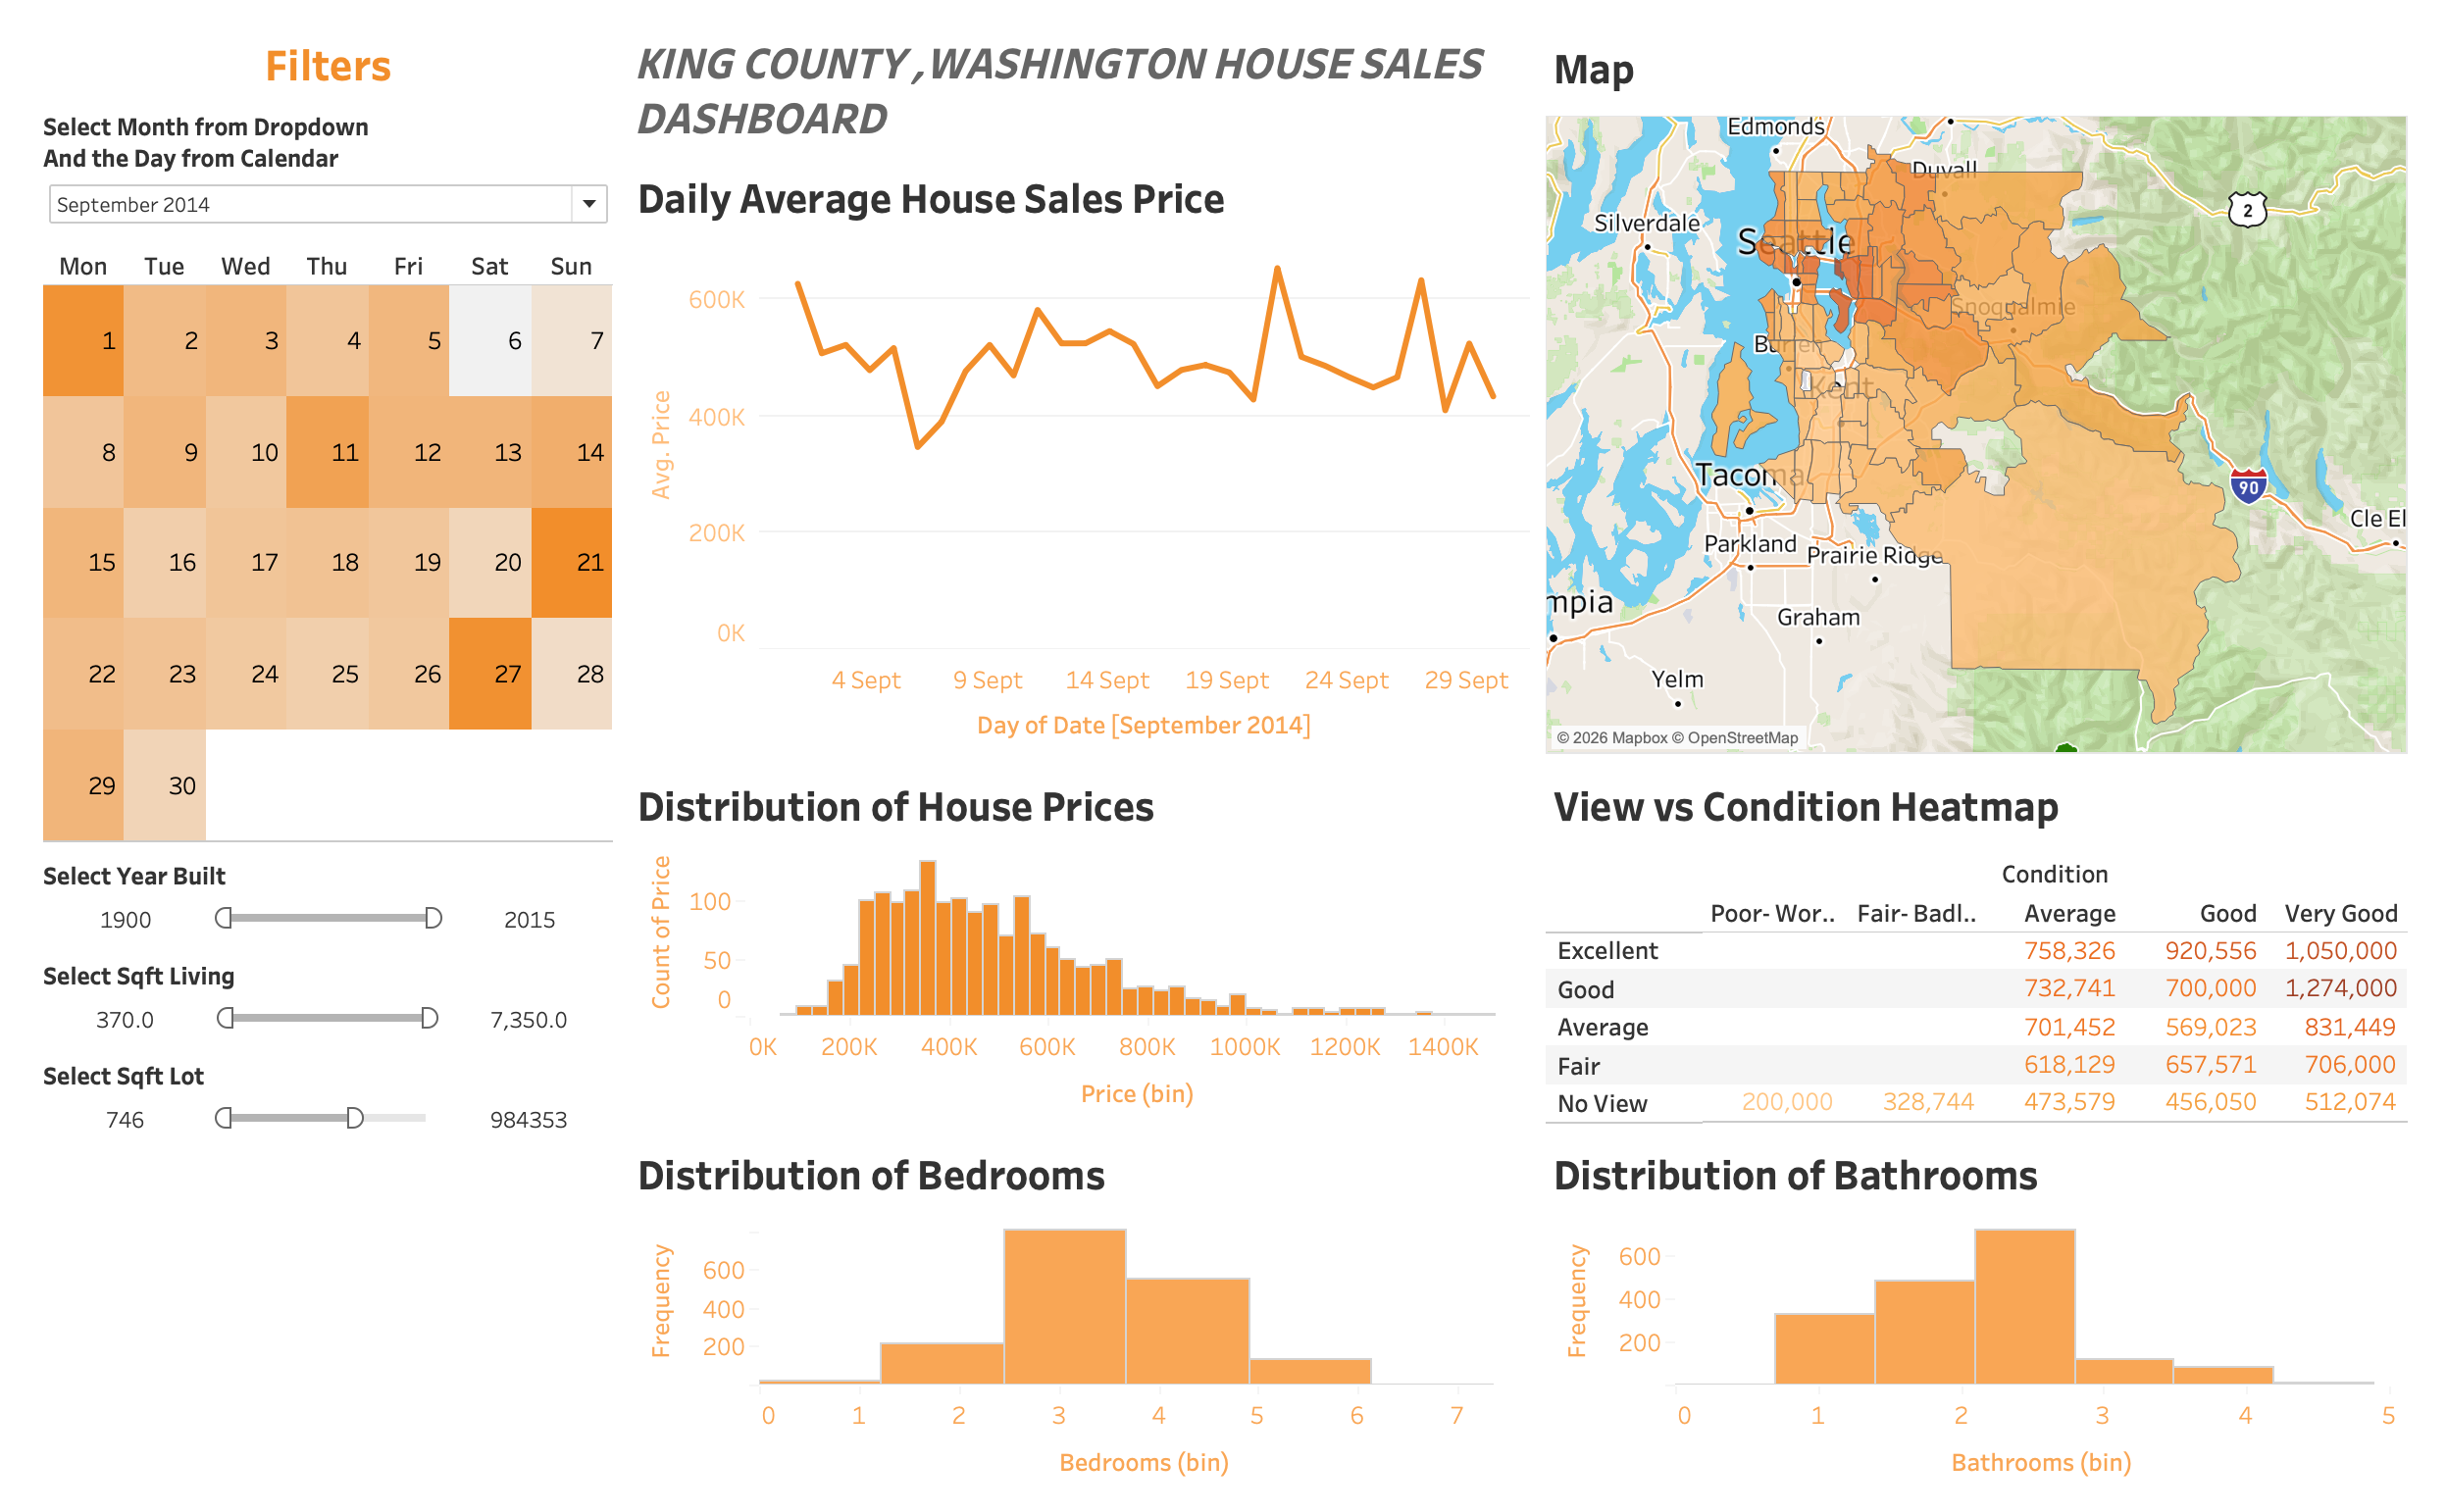

The page's visual inventory and layout, read from the dashboard file:
{"tool":"tableau","page":{"name":"Dashboard 1","canvas":[1230,768],"ordinal":0},"visuals":[{"type":"text","box":[8,8,299,39]},{"type":"text","box":[307,8,467,66]},{"type":"worksheet","title":"Map","mark":"Automatic","box":[774,8,448,376]},{"type":"filter","title":"Calendar","param":"[federated.1cbjfj71t1tibs149n6ov13t5jb9].[my:date:ok]","box":[8,47,299,69]},{"type":"worksheet","title":"Line Chart","mark":"Automatic","rows":["price"],"cols":["date"],"box":[307,74,467,310]},{"type":"worksheet","title":"Calendar","mark":"Square","rows":["date"],"cols":["date"],"box":[8,116,299,313]},{"type":"worksheet","title":"Histogram House Price","mark":"Automatic","rows":["price"],"cols":["Price (bin)"],"box":[307,384,467,188]},{"type":"worksheet","title":"Heatmap","mark":"Automatic","rows":["view"],"cols":["condition"],"box":[774,384,448,188]},{"type":"filter","title":"Calendar","param":"[federated.1cbjfj71t1tibs149n6ov13t5jb9].[none:yr_built:qk]","box":[8,429,299,51]},{"type":"filter","title":"Calendar","param":"[federated.1cbjfj71t1tibs149n6ov13t5jb9].[none:sqft_living:qk]","box":[8,480,299,51]},{"type":"filter","title":"Calendar","param":"[federated.1cbjfj71t1tibs149n6ov13t5jb9].[none:sqft_lot:qk]","box":[8,531,299,51]},{"type":"worksheet","title":"Histbedrooms","mark":"Automatic","rows":["bedrooms"],"cols":["Bedrooms (bin)"],"box":[307,572,467,188]},{"type":"worksheet","title":"Histbathrooms","mark":"Automatic","rows":["bathrooms"],"cols":["Bathrooms (bin)"],"box":[774,572,448,188]}]}

Visuals, with their boxes in screenshot pixels (x1, y1, x2, y2), scaled from the page's 1230x768 canvas onto the 2446x1512 screenshot:
text: <box>16,16,610,92</box>
text: <box>610,16,1539,146</box>
"Map" worksheet: <box>1539,16,2430,756</box>
"Calendar" filter: <box>16,92,610,228</box>
"Line Chart" worksheet: <box>610,146,1539,756</box>
"Calendar" worksheet (Square marks): <box>16,228,610,844</box>
"Histogram House Price" worksheet: <box>610,756,1539,1126</box>
"Heatmap" worksheet: <box>1539,756,2430,1126</box>
"Calendar" filter: <box>16,844,610,945</box>
"Calendar" filter: <box>16,945,610,1045</box>
"Calendar" filter: <box>16,1045,610,1146</box>
"Histbedrooms" worksheet: <box>610,1126,1539,1496</box>
"Histbathrooms" worksheet: <box>1539,1126,2430,1496</box>
